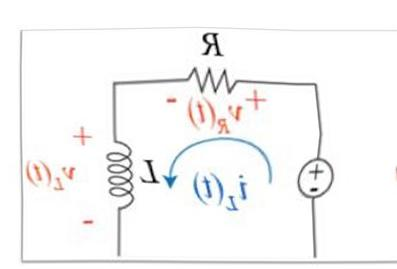Battery: (290, 151, 340, 203)
